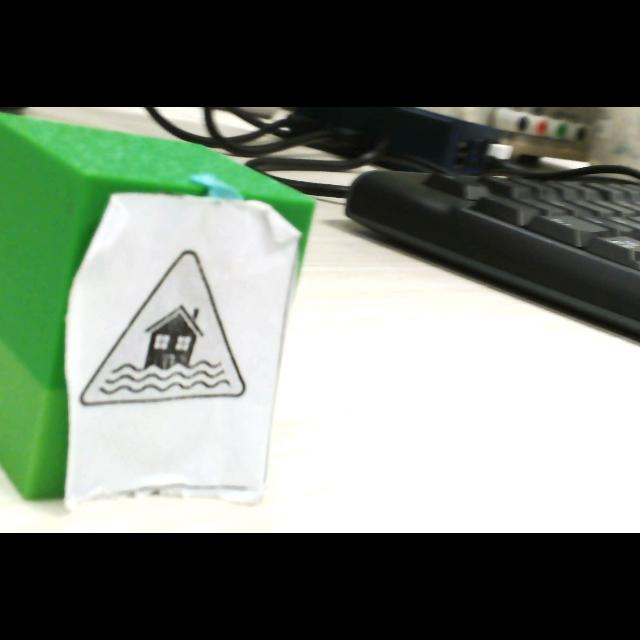Tsunami: (81, 251, 245, 406)
